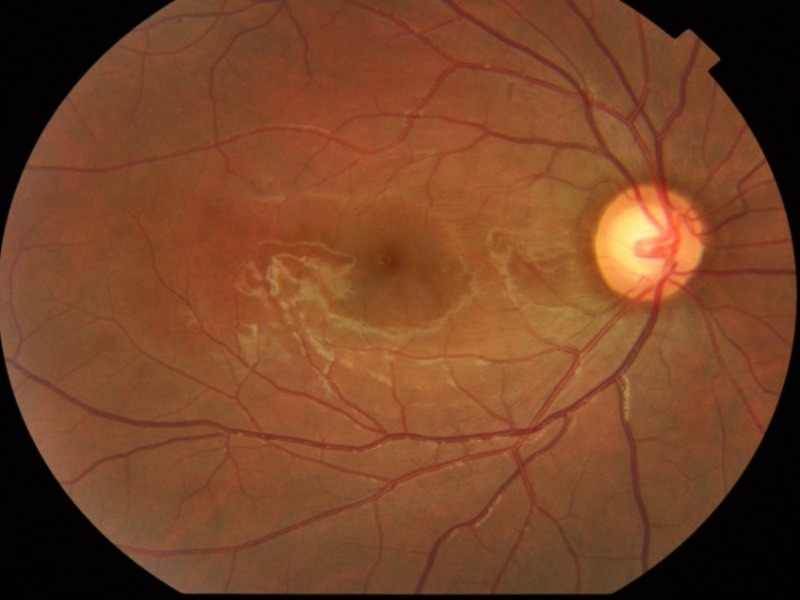Optic Cup: (612, 205, 662, 274)
Optic Disc: (593, 184, 704, 300)
